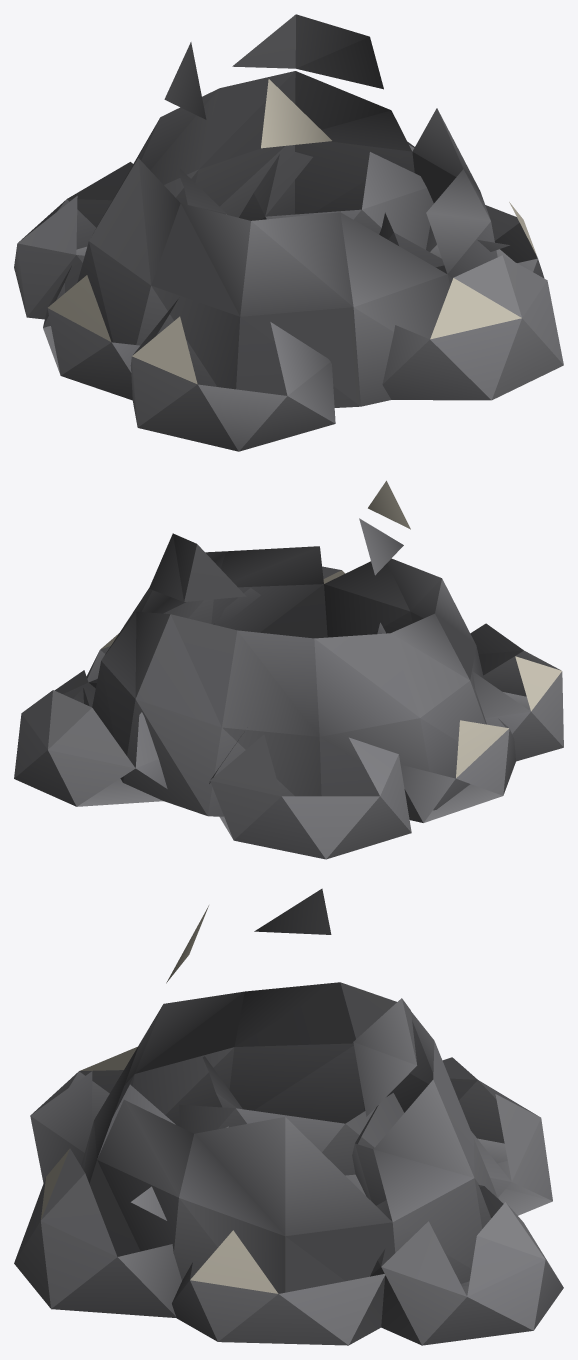
The model's file is fumarole.lod.glb.
The picture shows the model from 3 angles, top to bottom: view 1: azimuth 30°, elevation 25°; view 2: azimuth 150°, elevation 25°; view 3: azimuth 270°, elevation 25°; orthographic projection. The views are drawn at different scales.
Parts seen in each view (by area): view 1: fumarole; view 2: fumarole; view 3: fumarole.
Part boxes in pixels (bbox=[...]): fumarole: bbox=[14, 14, 563, 451]; fumarole: bbox=[14, 480, 563, 859]; fumarole: bbox=[14, 888, 563, 1345].
Size of the model in its own units: 2.7 by 1.61 by 2.69.
